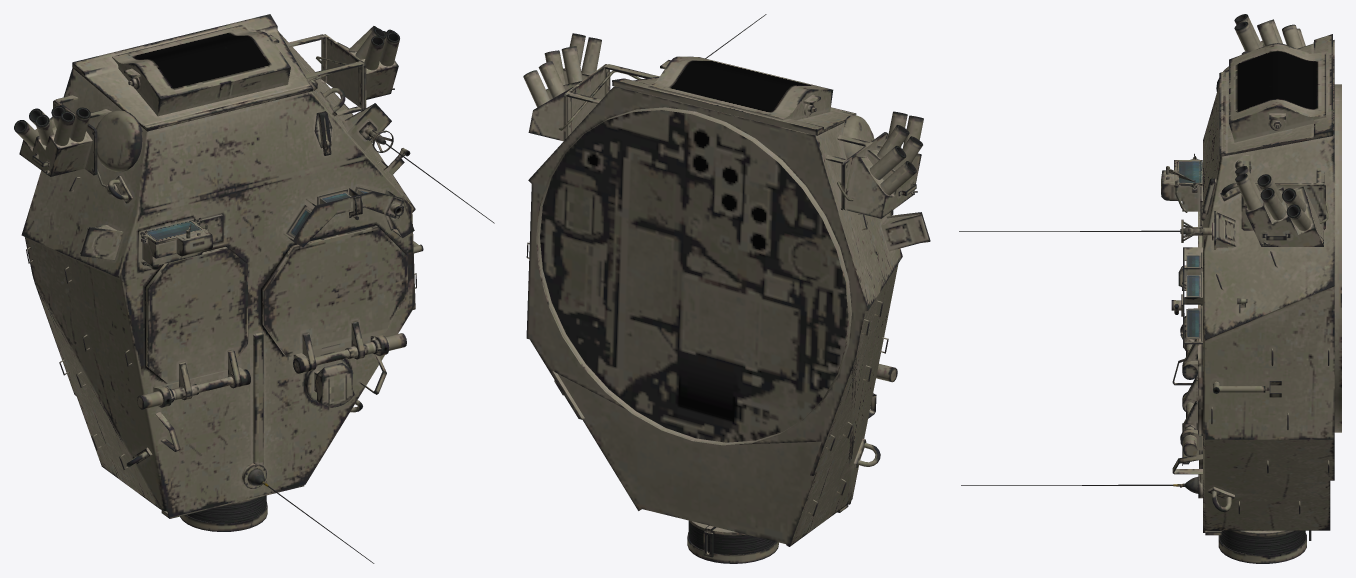
The model's file is Turret_01.glb.
3 views of the same model, side by side, from view 1: azimuth 30°, elevation 25°; view 2: azimuth 150°, elevation 25°; view 3: azimuth 270°, elevation 25° (orthographic). The views are drawn at different scales.
Visible parts, largest first — view 1: set_0_group_0; view 2: set_0_group_0; view 3: set_0_group_0.
Part boxes in pixels (x1=…): set_0_group_0: x1=14, y1=14, x2=494, y2=563; set_0_group_0: x1=523, y1=14, x2=930, y2=563; set_0_group_0: x1=959, y1=14, x2=1341, y2=563.
Bounding box in the file's own units: 1.97 × 2.31 × 1.73.
Materials: 1 (1 with a texture image).
